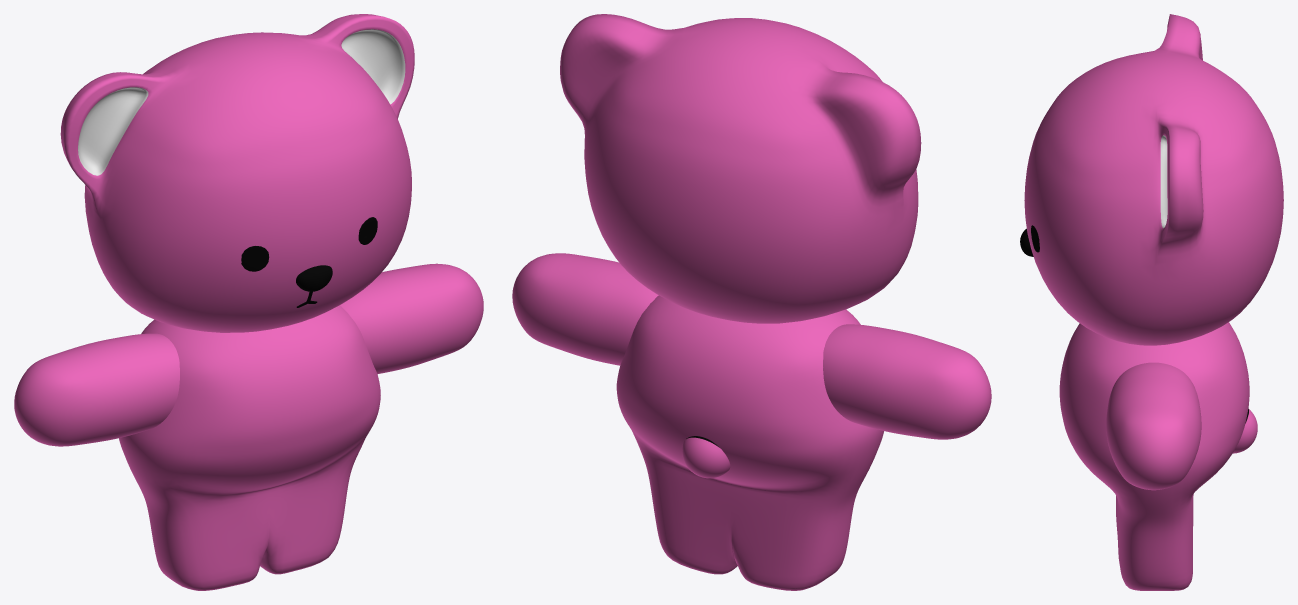
File: bearORG.fbx
The picture shows the model from 3 angles, left to right: view 1: azimuth 30°, elevation 25°; view 2: azimuth 150°, elevation 25°; view 3: azimuth 270°, elevation 25°; orthographic projection. The views are drawn at different scales.
Parts seen in each view (by area): view 1: Bear_Face.002; view 2: Bear_Face.002; view 3: Bear_Face.002.
Boxes of the visible parts, <box> form: Bear_Face.002: <box>14,14,483,590</box>; Bear_Face.002: <box>512,14,991,590</box>; Bear_Face.002: <box>1020,14,1283,590</box>.
Size of the model in its own units: 460 by 498 by 241.
